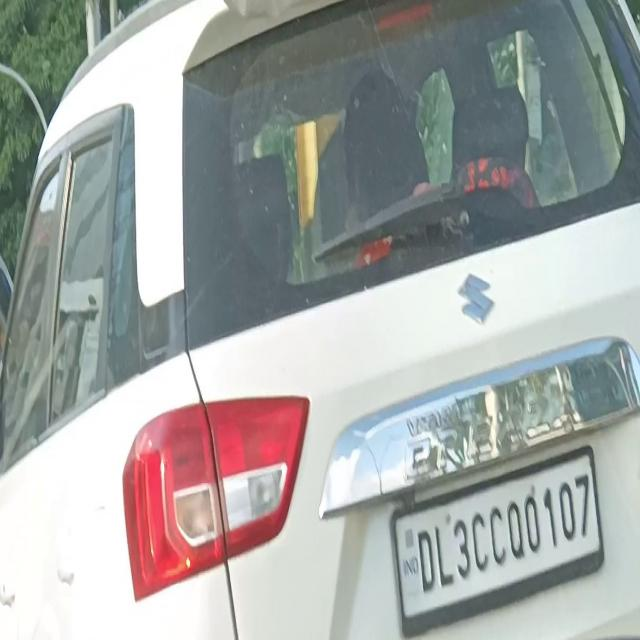Plate: (395, 453, 602, 620)
